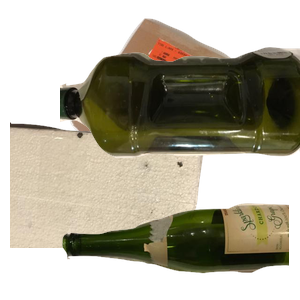cardboard: (67, 16, 295, 196)
glass: (60, 201, 300, 300)
plastic: (60, 44, 300, 195)
trash: (10, 120, 207, 300)
